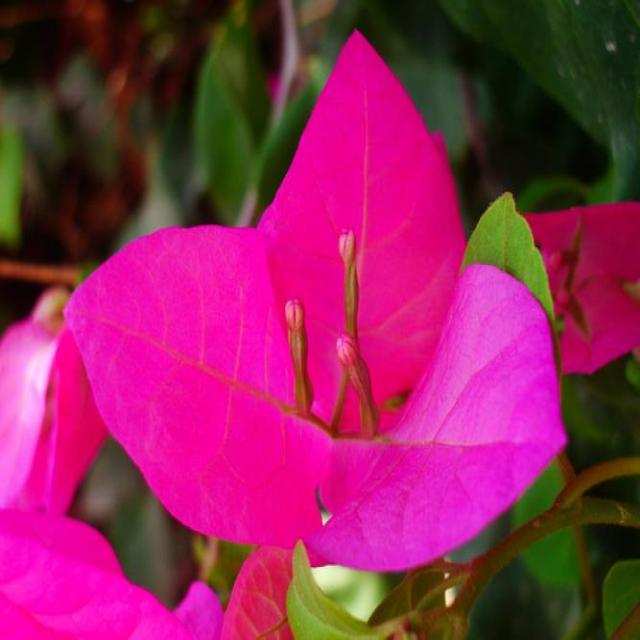bougainvillea: (58, 4, 582, 580)
